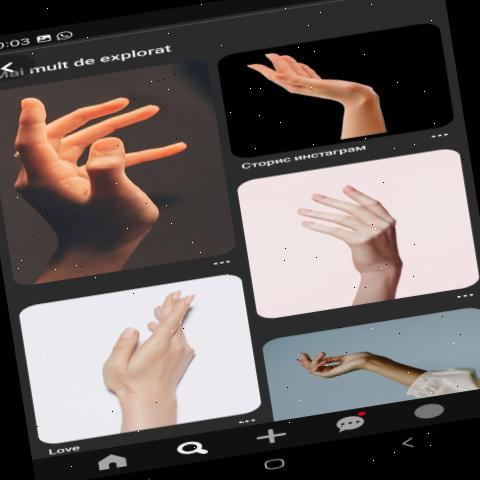Hands: (7, 90, 208, 261), (86, 281, 226, 429), (264, 177, 424, 304), (241, 46, 406, 134), (291, 332, 403, 384)
